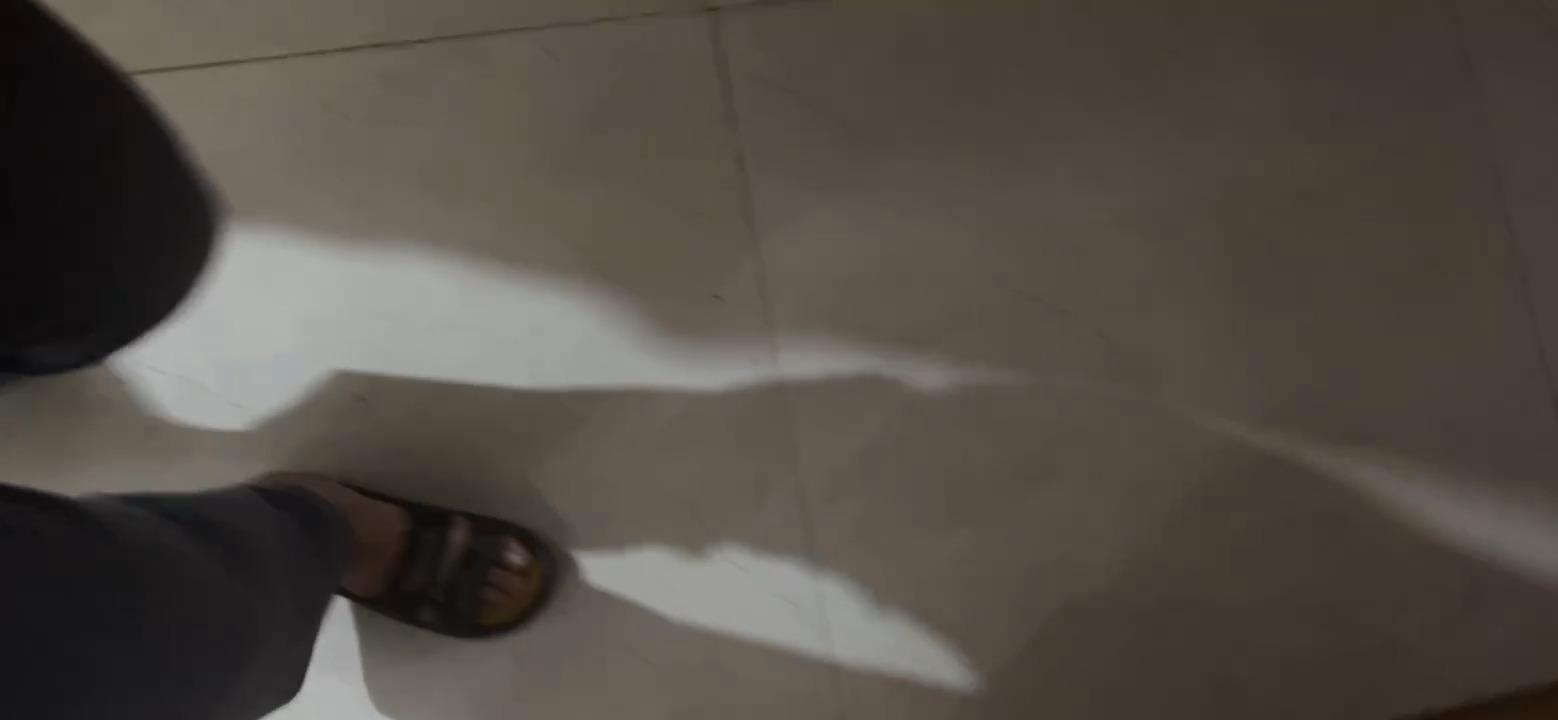no-boot: (267, 453, 550, 641)
